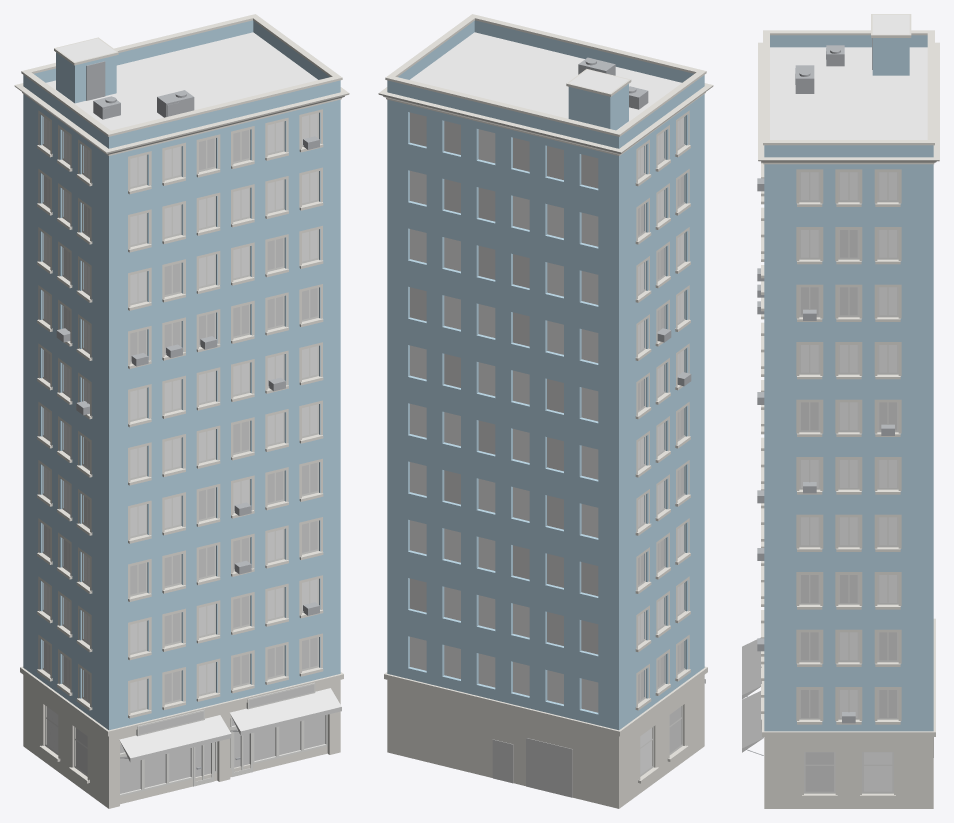
File: midtown_w50f10s.glb
The picture shows the model from 3 angles, left to right: view 1: azimuth 30°, elevation 25°; view 2: azimuth 150°, elevation 25°; view 3: azimuth 270°, elevation 25°; orthographic projection.
Visible parts, largest first — view 1: midtown_w50f10s_Walls, midtown_w50f10s_Trim, midtown_w50f10s_Glass, midtown_w50f10s_WindowsLit, midtown_w50f10s_Frames, midtown_w50f10s_Roof, midtown_w50f10s_Awning, midtown_w50f10s_Details, midtown_w50f10s_Sign; view 2: midtown_w50f10s_Walls, midtown_w50f10s_Trim, midtown_w50f10s_Glass, midtown_w50f10s_WindowsLit, midtown_w50f10s_Roof, midtown_w50f10s_Frames, midtown_w50f10s_Doors, midtown_w50f10s_Details; view 3: midtown_w50f10s_Walls, midtown_w50f10s_Trim, midtown_w50f10s_Roof, midtown_w50f10s_Glass, midtown_w50f10s_Frames, midtown_w50f10s_WindowsLit, midtown_w50f10s_Details, midtown_w50f10s_Awning.
Boxes of the visible parts, x1=… form: midtown_w50f10s_Walls: x1=23, y1=20, x2=340, y2=730; midtown_w50f10s_Trim: x1=14, y1=14, x2=349, y2=808; midtown_w50f10s_Glass: x1=44, y1=113, x2=317, y2=753; midtown_w50f10s_WindowsLit: x1=44, y1=130, x2=325, y2=793; midtown_w50f10s_Frames: x1=42, y1=113, x2=327, y2=796; midtown_w50f10s_Roof: x1=46, y1=32, x2=317, y2=130; midtown_w50f10s_Awning: x1=119, y1=688, x2=341, y2=762; midtown_w50f10s_Details: x1=56, y1=61, x2=319, y2=769; midtown_w50f10s_Sign: x1=139, y1=684, x2=314, y2=734; midtown_w50f10s_Walls: x1=387, y1=20, x2=704, y2=730; midtown_w50f10s_Trim: x1=378, y1=14, x2=713, y2=808; midtown_w50f10s_Glass: x1=410, y1=117, x2=683, y2=774; midtown_w50f10s_WindowsLit: x1=410, y1=112, x2=683, y2=753; midtown_w50f10s_Roof: x1=410, y1=32, x2=681, y2=130; midtown_w50f10s_Frames: x1=638, y1=116, x2=685, y2=776; midtown_w50f10s_Doors: x1=492, y1=738, x2=572, y2=797; midtown_w50f10s_Details: x1=578, y1=57, x2=691, y2=386; midtown_w50f10s_Walls: x1=764, y1=35, x2=933, y2=731; midtown_w50f10s_Trim: x1=758, y1=14, x2=939, y2=808; midtown_w50f10s_Roof: x1=770, y1=14, x2=927, y2=139; midtown_w50f10s_Glass: x1=801, y1=172, x2=896, y2=791; midtown_w50f10s_Frames: x1=761, y1=172, x2=898, y2=793; midtown_w50f10s_WindowsLit: x1=801, y1=230, x2=896, y2=791; midtown_w50f10s_Details: x1=746, y1=38, x2=894, y2=755; midtown_w50f10s_Awning: x1=742, y1=637, x2=763, y2=752.
Bounding box in the file's own units: 52.6 × 145 × 37.4.
